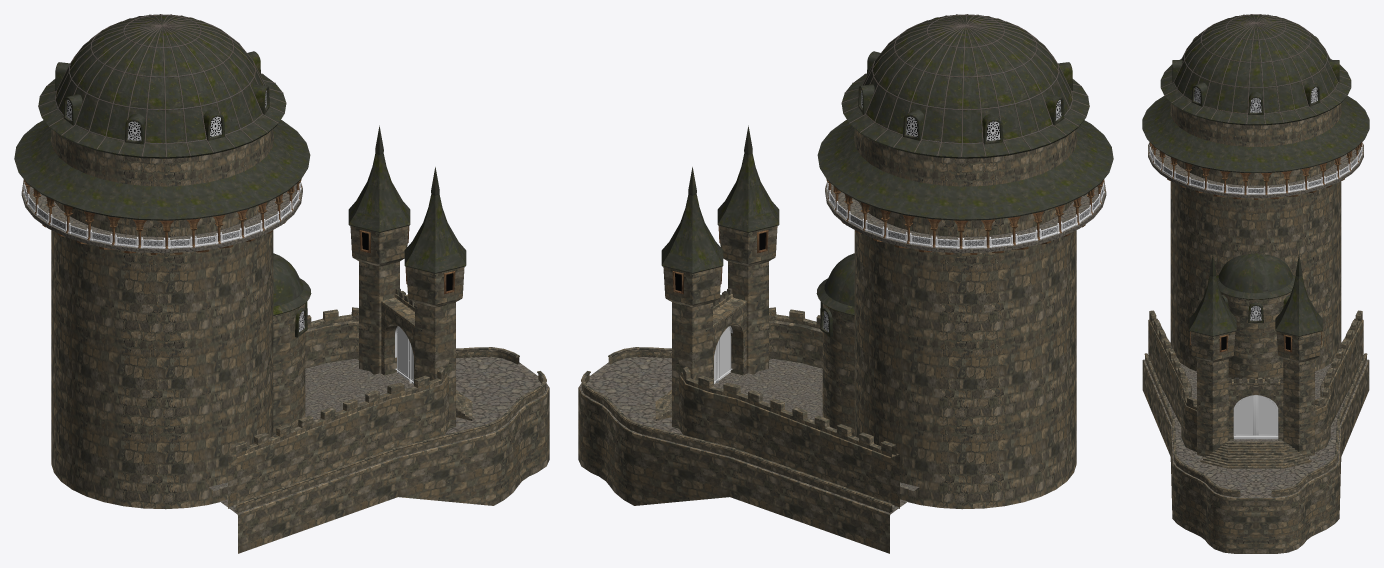
Rendered from CaveCastle_FULL.fbx.
3 views of the same model, side by side, from view 1: azimuth 30°, elevation 25°; view 2: azimuth 150°, elevation 25°; view 3: azimuth 270°, elevation 25° (orthographic). The views are drawn at different scales.
Parts seen in each view (by area): view 1: CastleMain_FULL, CaveBridgeSecondPlatform, CaveBridgeRailings; view 2: CastleMain_FULL, CaveBridgeSecondPlatform, CaveBridgeRailings; view 3: CastleMain_FULL, CaveBridgeSecondPlatform, CaveBridgeRailings.
Boxes of the visible parts, bbox=[...] form: CastleMain_FULL: bbox=[14, 14, 472, 509]; CaveBridgeSecondPlatform: bbox=[220, 356, 549, 553]; CaveBridgeRailings: bbox=[235, 347, 546, 513]; CastleMain_FULL: bbox=[655, 14, 1113, 509]; CaveBridgeSecondPlatform: bbox=[578, 356, 907, 553]; CaveBridgeRailings: bbox=[581, 347, 892, 513]; CastleMain_FULL: bbox=[1142, 14, 1369, 468]; CaveBridgeSecondPlatform: bbox=[1142, 359, 1369, 553]; CaveBridgeRailings: bbox=[1144, 353, 1367, 496].
Bounding box in the file's own units: 68.38 × 66.75 × 35.08.
